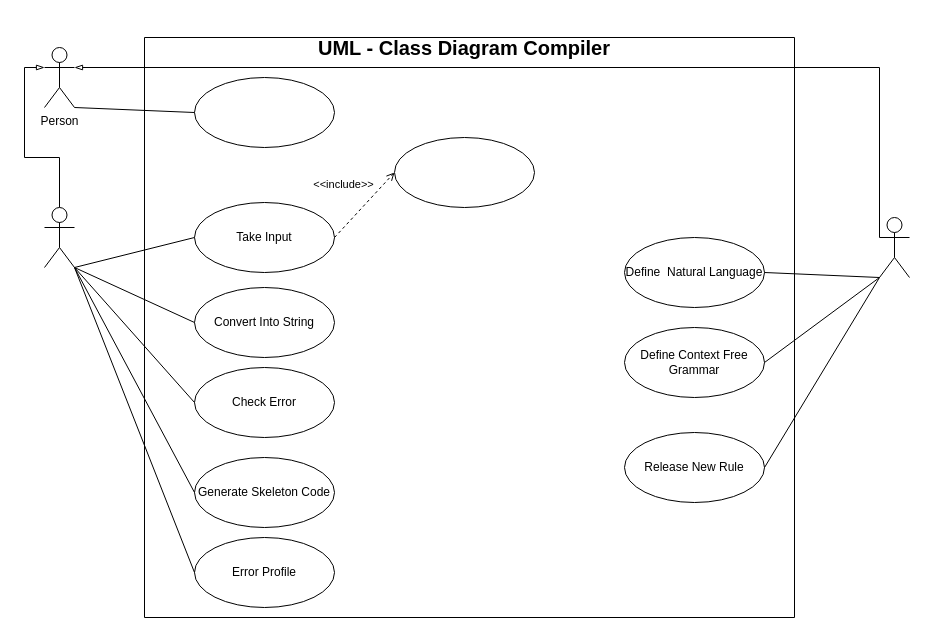
This 929x635 diagram has some shape labels left out. Each missing label, with the box of its shape:
Admin: (878, 216, 910, 278)
Person Login: (194, 76, 334, 148)
Take XML Format: (394, 136, 534, 208)
User: (44, 206, 74, 268)
